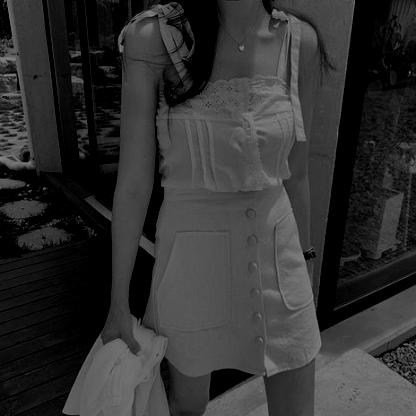jacket: (116, 0, 318, 194), (149, 176, 330, 383)
